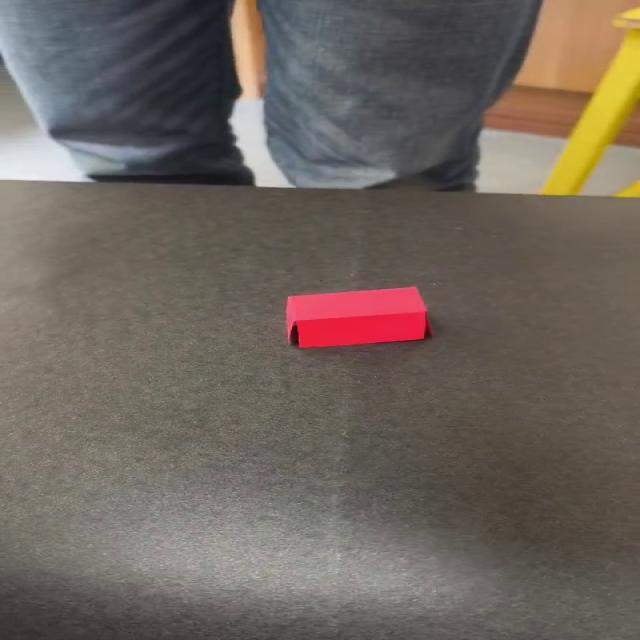red block: (283, 285, 429, 348)
